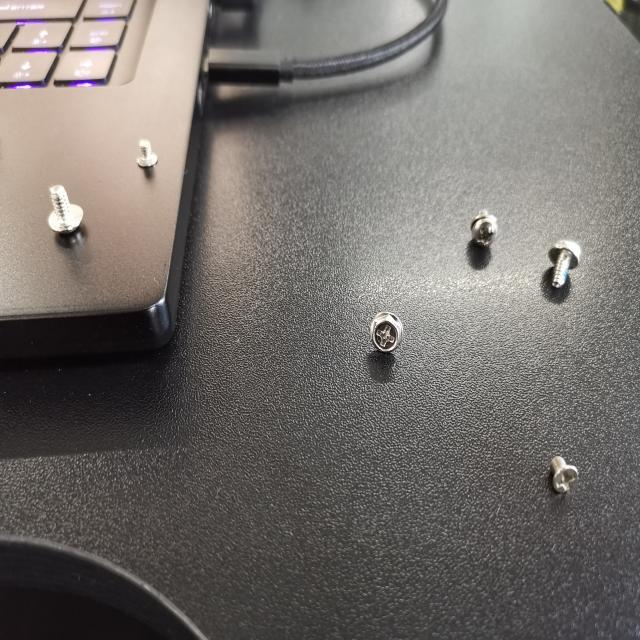Screw: (46, 180, 86, 242), (547, 237, 584, 294), (368, 308, 406, 358), (547, 453, 581, 499), (468, 206, 499, 252), (136, 137, 160, 173)
